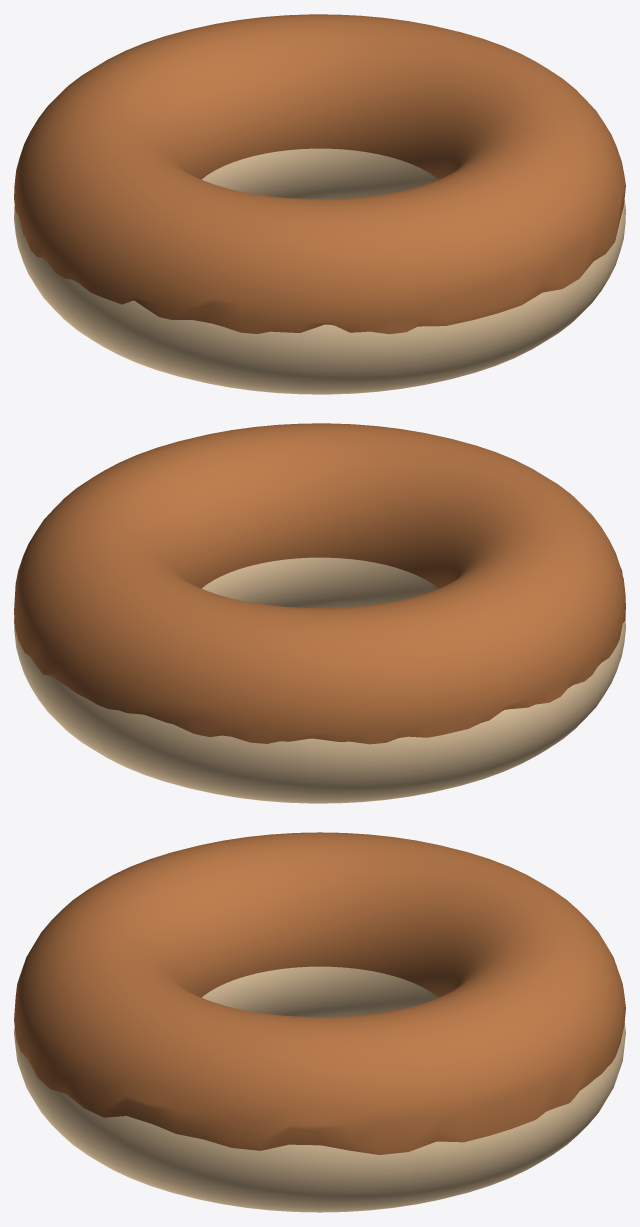
File: dounut.glb
The picture shows the model from 3 angles, top to bottom: view 1: azimuth 30°, elevation 25°; view 2: azimuth 150°, elevation 25°; view 3: azimuth 270°, elevation 25°; orthographic projection.
Visible parts, largest first — view 1: Torus 1 - baked, Torus; view 2: Torus 1 - baked, Torus; view 3: Torus 1 - baked, Torus.
Part boxes in pixels (left/top/right/bottom): Torus 1 - baked: left=14, top=14, right=625, bottom=334; Torus: left=14, top=148, right=625, bottom=394; Torus 1 - baked: left=14, top=423, right=625, bottom=744; Torus: left=14, top=557, right=625, bottom=803; Torus 1 - baked: left=14, top=832, right=625, bottom=1154; Torus: left=14, top=966, right=625, bottom=1212.
Bounding box in the file's own units: 0.14 × 0.0452 × 0.14.
